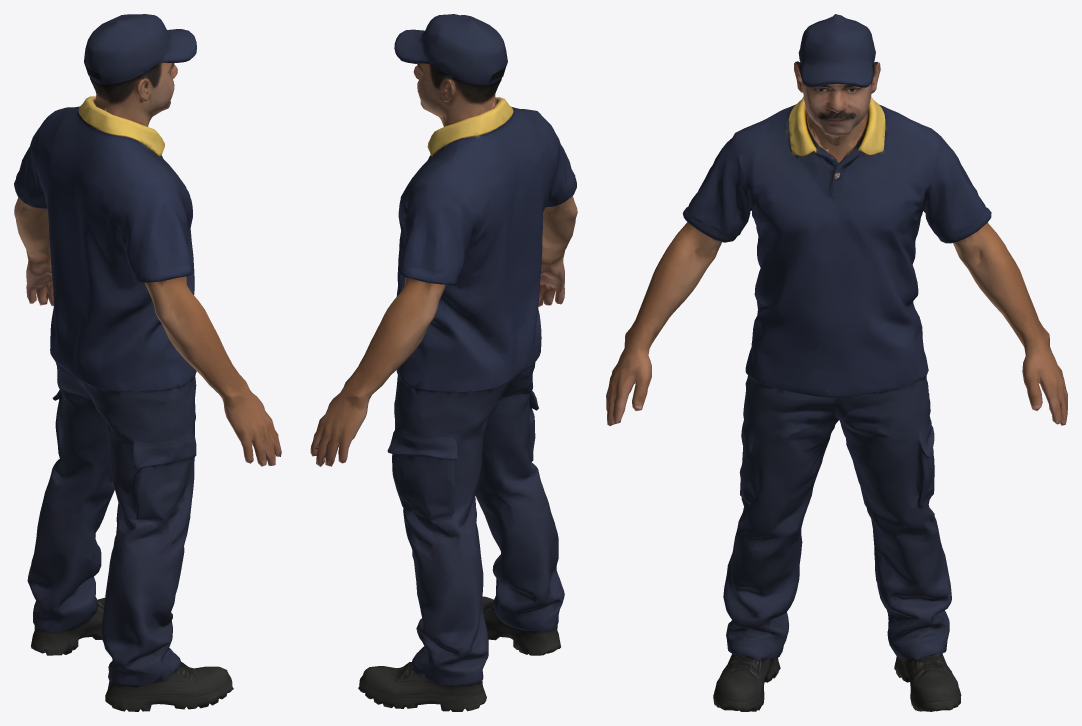
Rendered from frentista.glb.
The picture shows the model from 3 angles, left to right: view 1: azimuth 30°, elevation 25°; view 2: azimuth 150°, elevation 25°; view 3: azimuth 270°, elevation 25°; orthographic projection. The views are drawn at different scales.
Parts seen in each view (by area): view 1: tripo_node_6755caaf-d52b-4481-b9bc-5bf808022328; view 2: tripo_node_6755caaf-d52b-4481-b9bc-5bf808022328; view 3: tripo_node_6755caaf-d52b-4481-b9bc-5bf808022328.
Part boxes in pixels (box(x1,y1,x2,y2)): tripo_node_6755caaf-d52b-4481-b9bc-5bf808022328: box(14, 14, 281, 711); tripo_node_6755caaf-d52b-4481-b9bc-5bf808022328: box(310, 14, 577, 711); tripo_node_6755caaf-d52b-4481-b9bc-5bf808022328: box(606, 14, 1067, 711).
Bounding box in the file's own units: 0.3477 × 1.75 × 1.09.
1 material, 1 textured.
